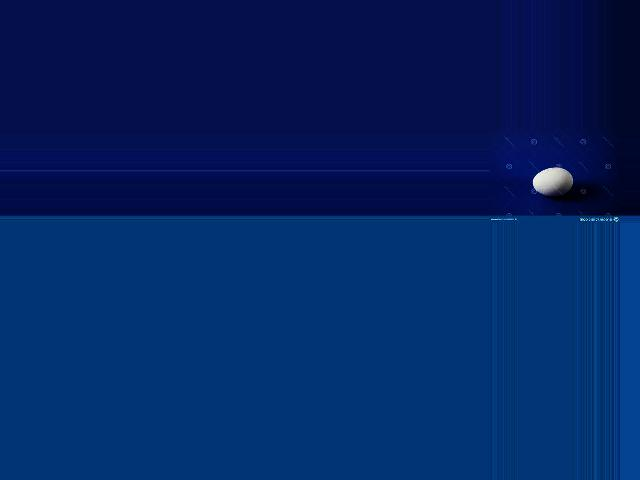egg: (531, 168, 572, 197)
